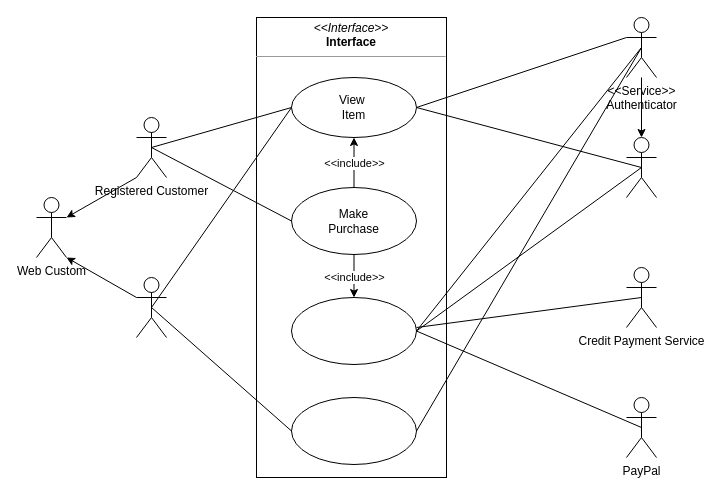
Image size: 722x496. Some labels were removed from this diagram. Each missing label, with the centre of its shape:
"Checkout" goes at point (353, 330).
"Client Register" goes at point (353, 430).
"Identity Provider" goes at point (641, 167).
"New Customer" goes at point (151, 307).
